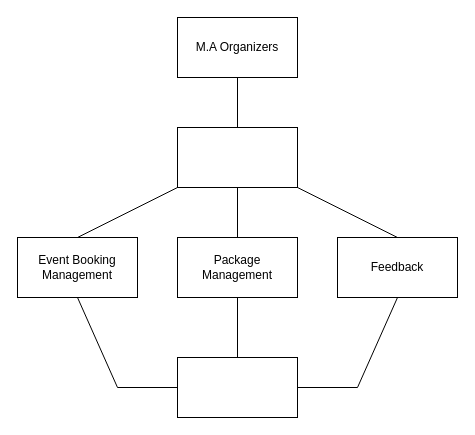
Image size: 475x435. Some labels were removed from this diagram. The shapes that lost their labels are listed below. From the top down, each one's box as (x1, y1, x2, y2) in pixels, then its label:
(176, 126, 298, 188): DataBase Accessor
(176, 356, 298, 418): Event Management
